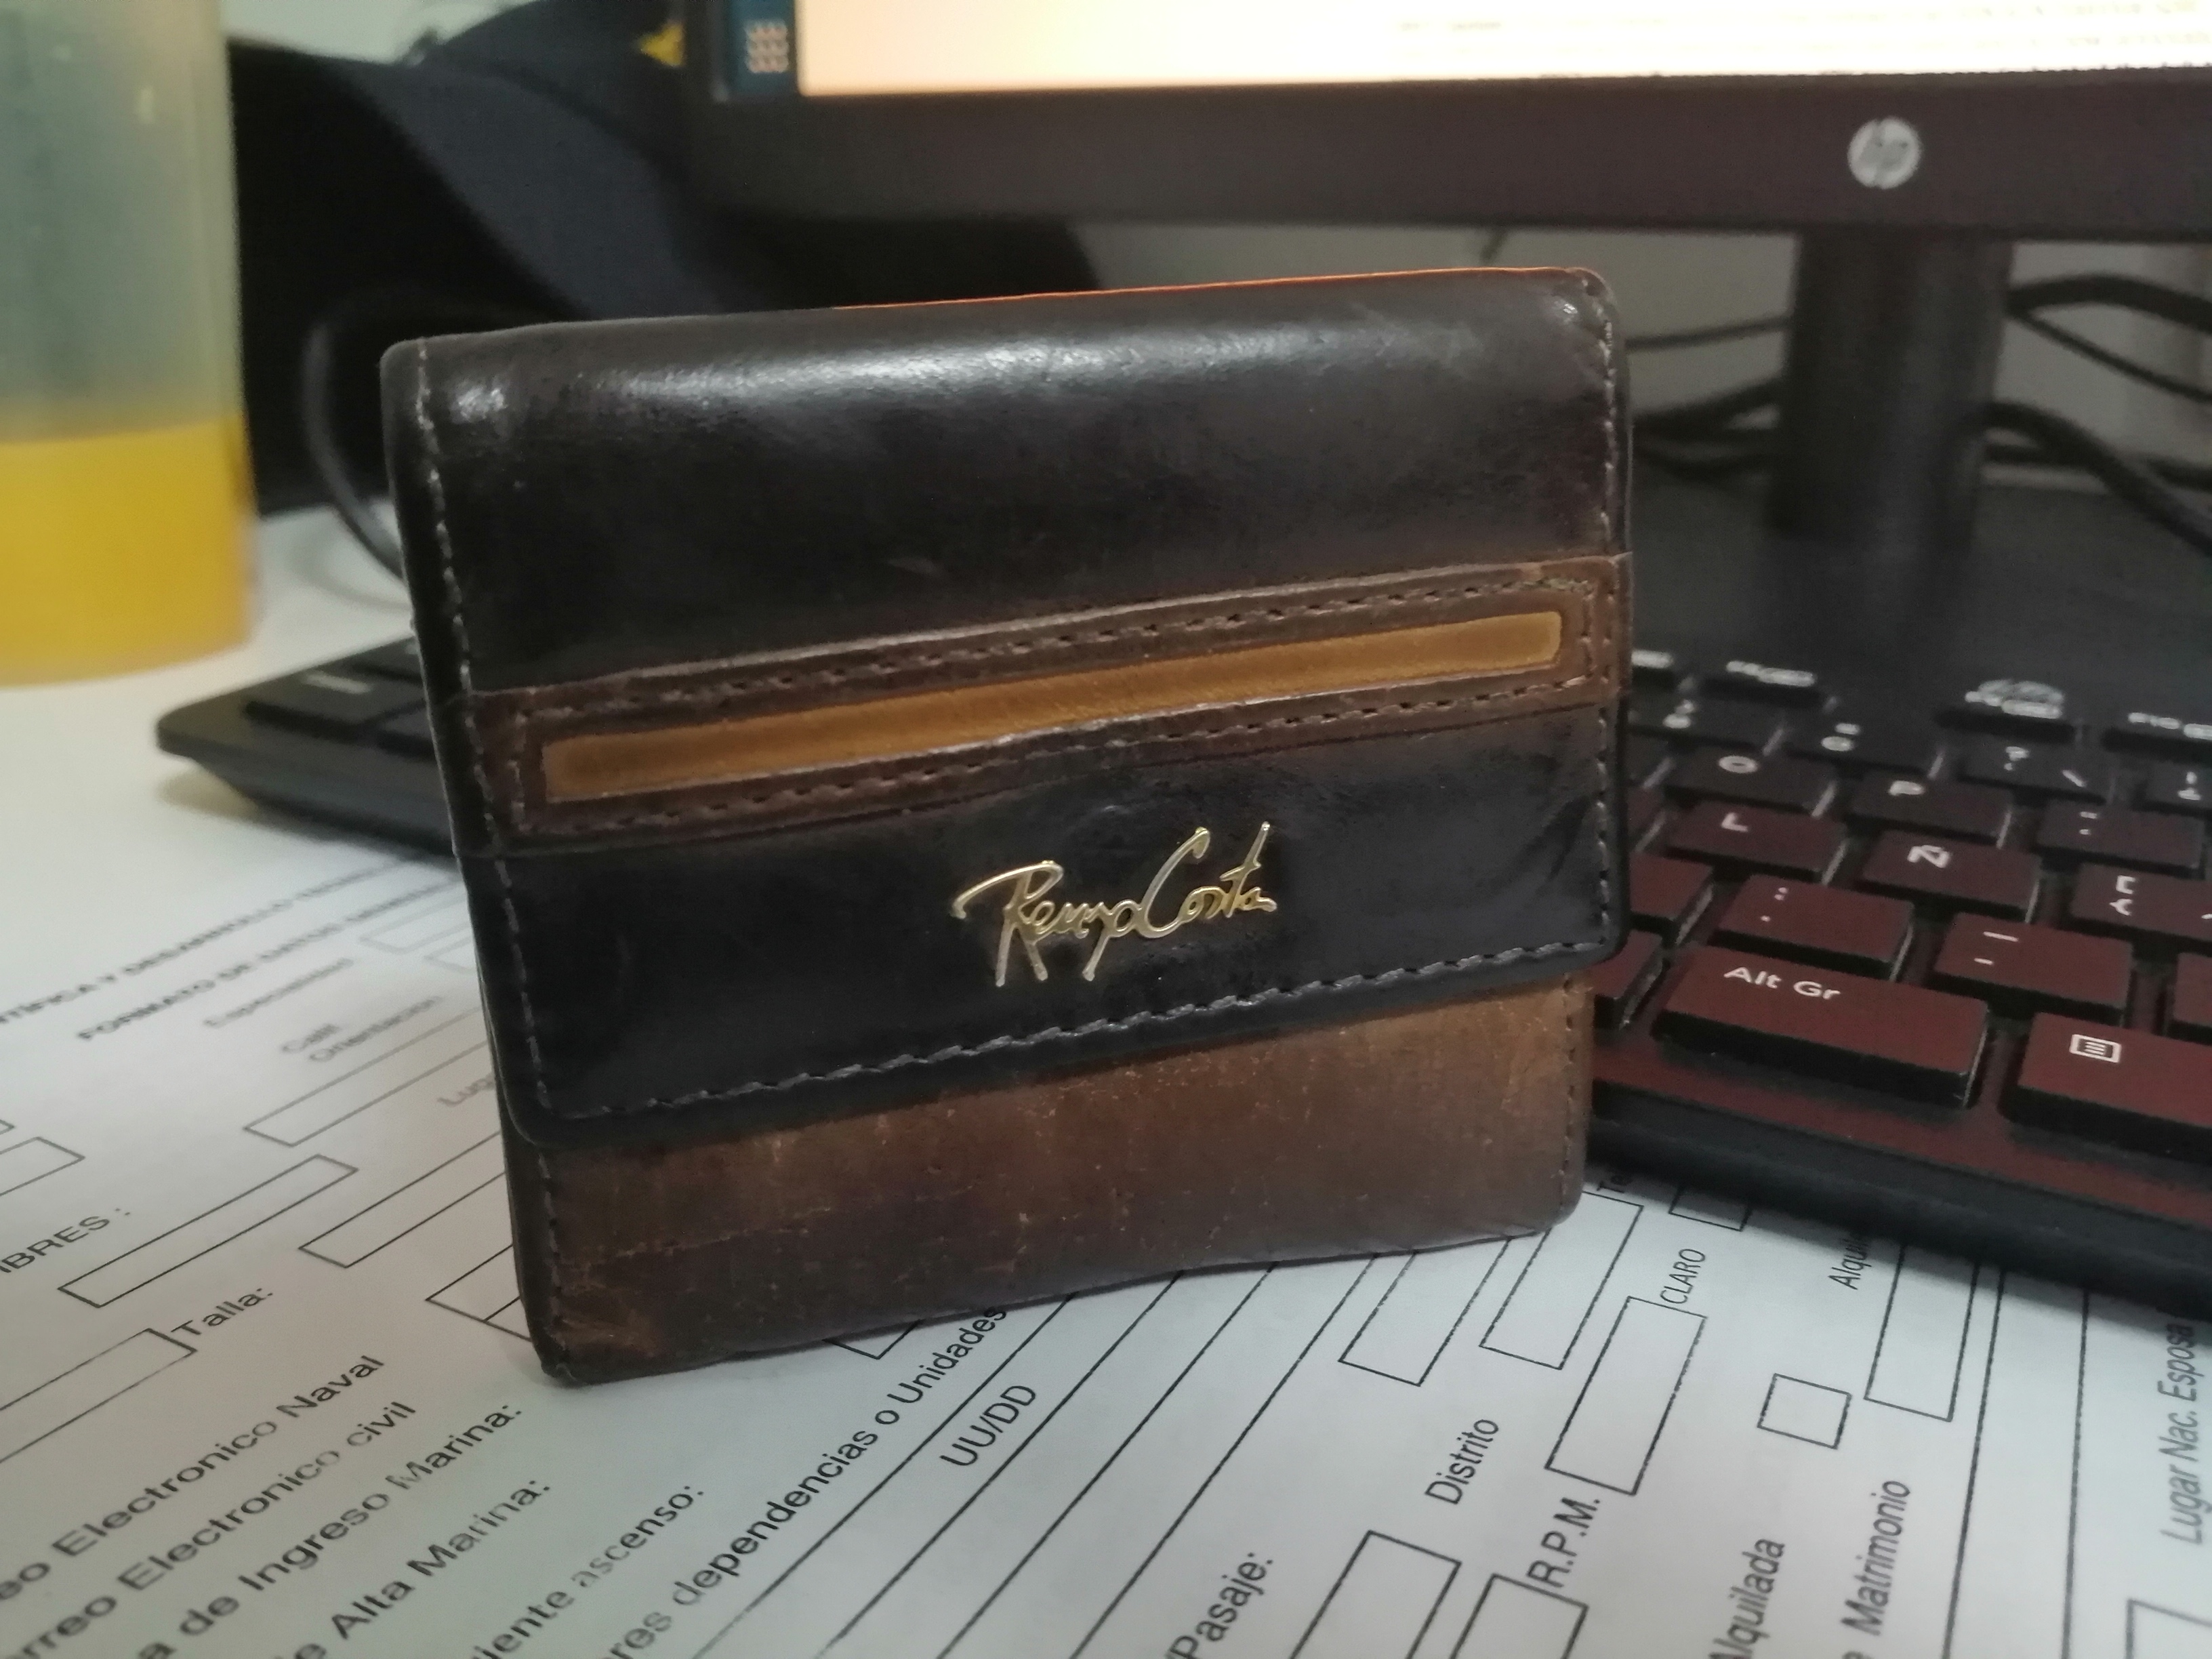monedero: (348, 246, 1693, 1405)
